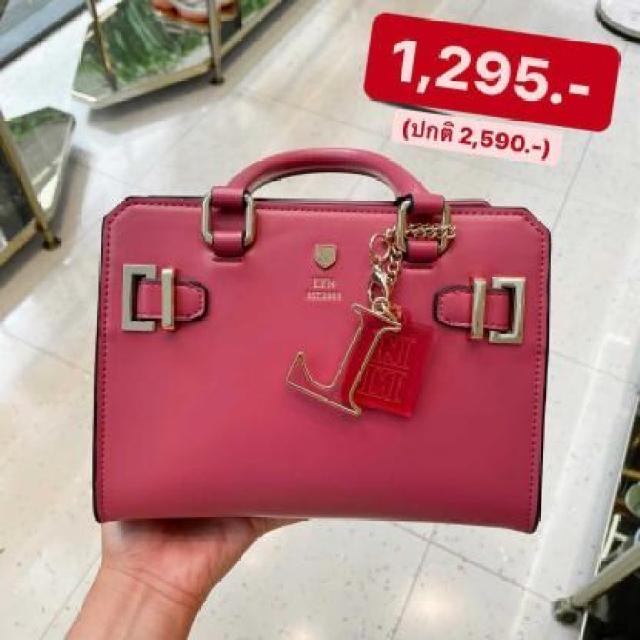Bag: (81, 139, 579, 556)
